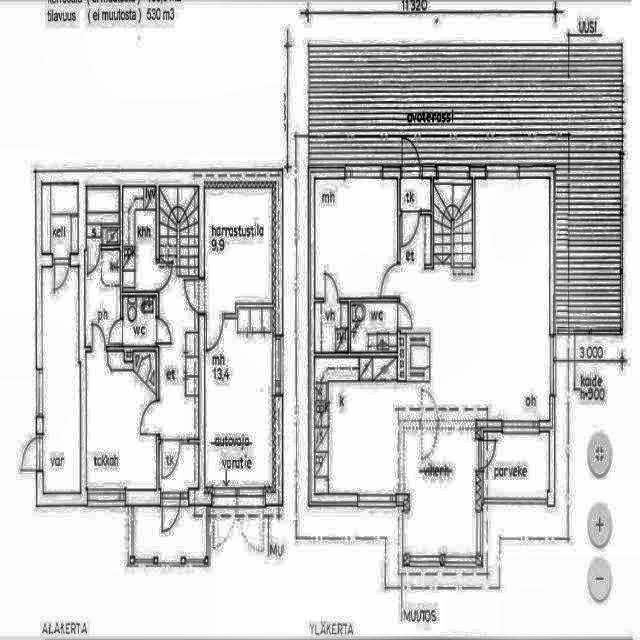room: (205, 308, 272, 486), (159, 186, 199, 439), (315, 179, 397, 298), (86, 352, 156, 491), (205, 187, 273, 315), (42, 267, 80, 493), (123, 187, 156, 292), (85, 251, 120, 346), (351, 303, 397, 351), (159, 445, 198, 488), (315, 303, 348, 352), (123, 297, 156, 345), (400, 179, 430, 211)
